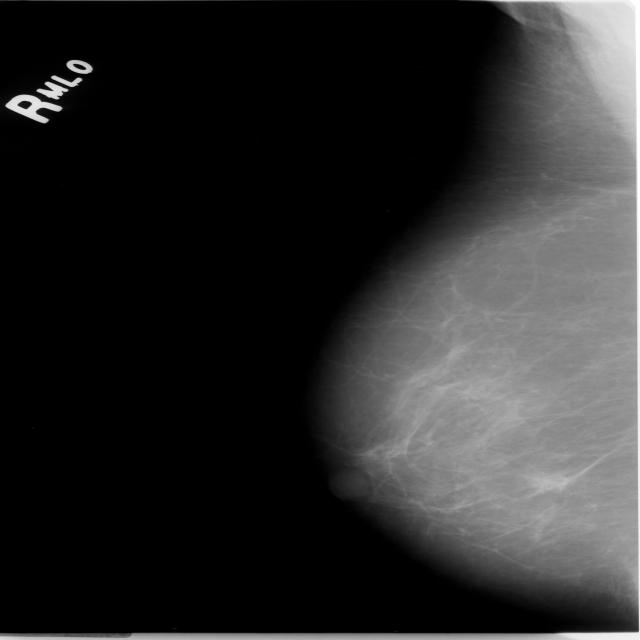normal: (311, 187, 640, 640)
